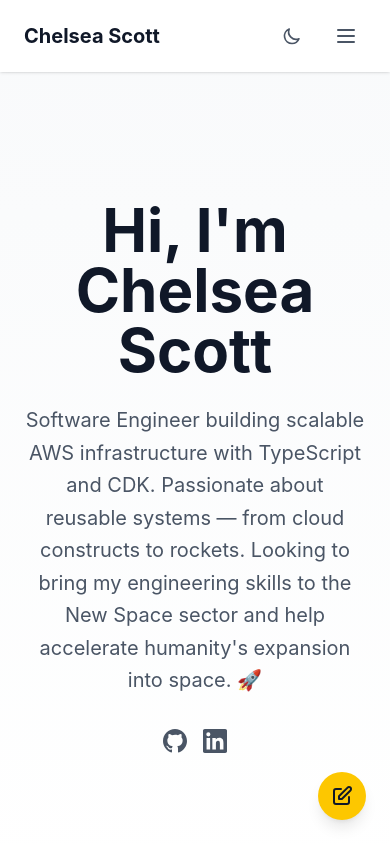
App › opens mobile nav when hamburger is clicked
The image size is (390, 844).
What coordinates should you click on to do the following:
click the button named "Toggle menu"
I would click on:
 (346, 36)
Its box is [326,16,366,56].
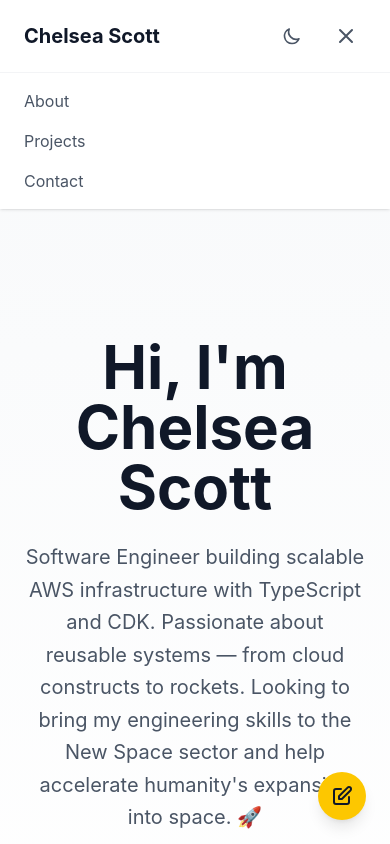
Expected: the button named "Toggle menu" is expanded, [326,16,366,56]
